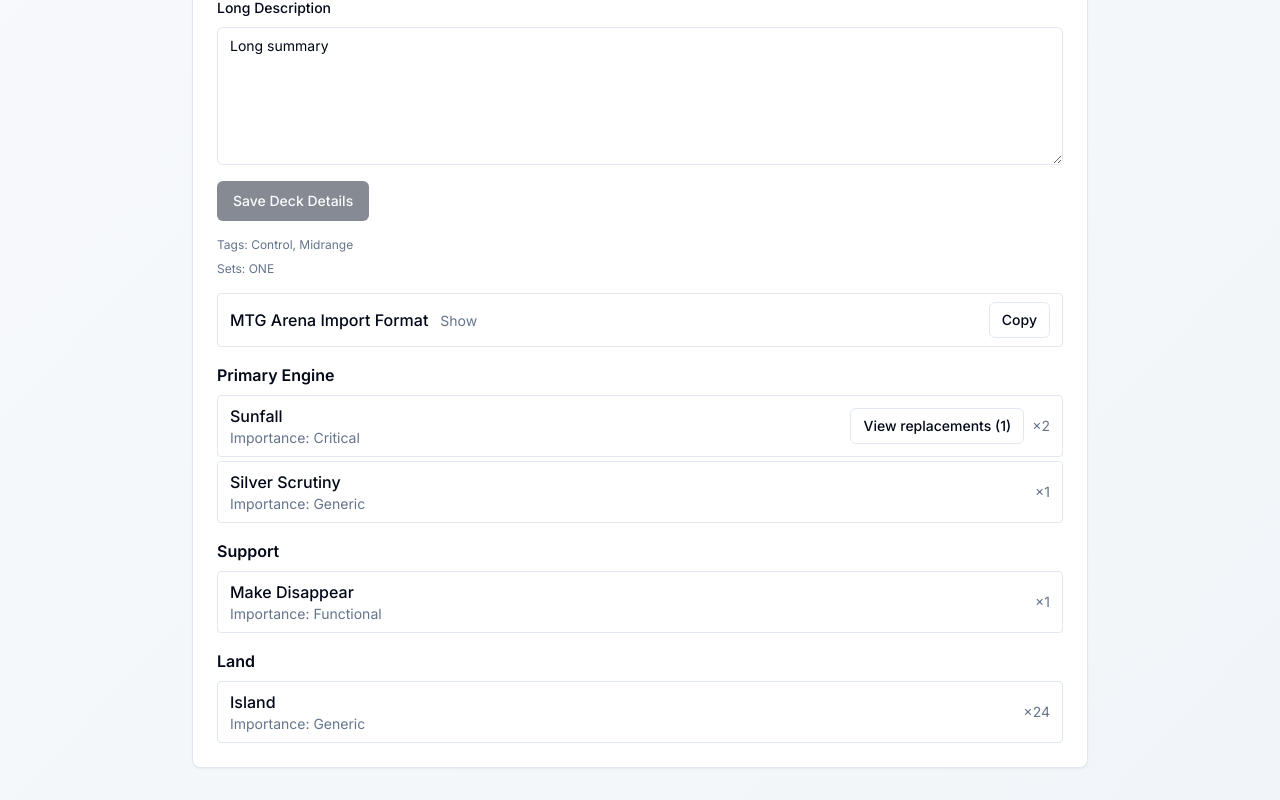
Scenario: DeckPage › shows card tags as a list when card info is expanded
(page scrolled)
Click the button "Sunfall Importance: Critical": (256, 416) [230,404,838,448]
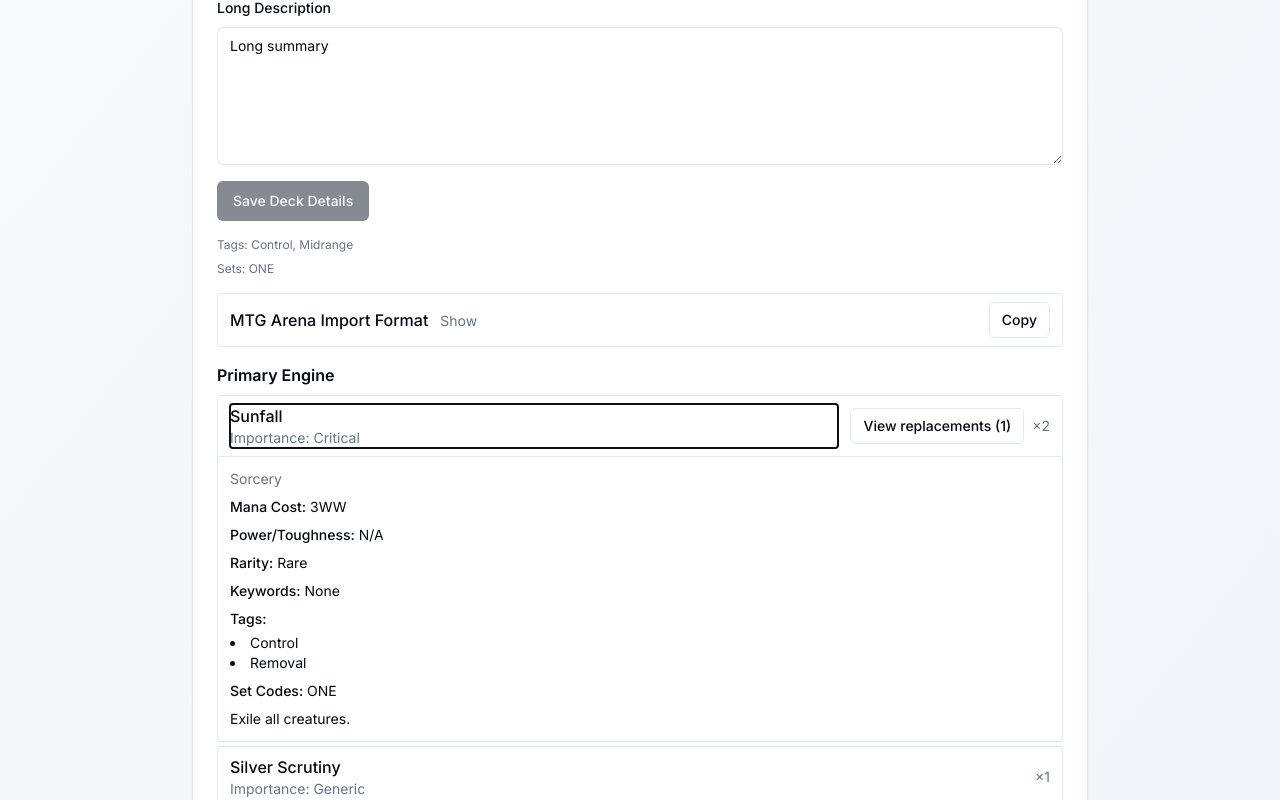
Check: the text "Tags:" is shown, box [230,610,266,627]
Check: the list is shown, box [250,634,306,671]
Check: the list item "Control" is shown, box [250,634,298,651]
